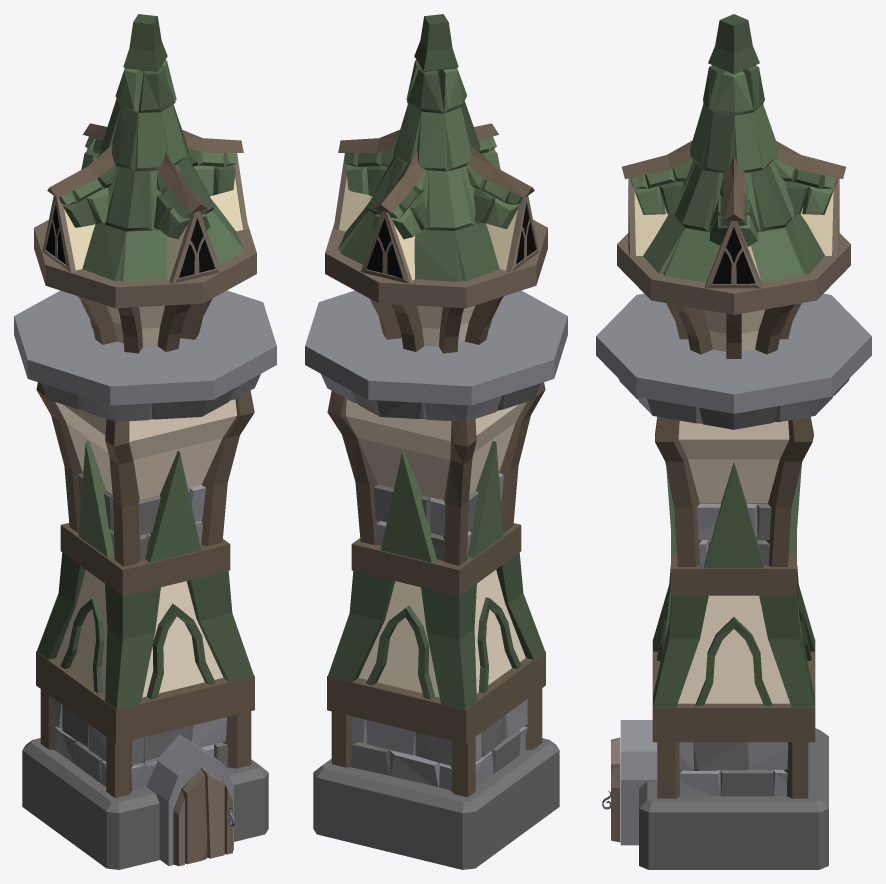
The model's file is Wizard_tower_LVL_3.fbx.
3 renders of one model, left to right at view 1: azimuth 30°, elevation 25°; view 2: azimuth 150°, elevation 25°; view 3: azimuth 270°, elevation 25°, orthographic.
Parts seen in each view (by area): view 1: Wizard_tower_LVL_3; view 2: Wizard_tower_LVL_3; view 3: Wizard_tower_LVL_3.
Boxes of the visible parts, left/top/right/bottom form: Wizard_tower_LVL_3: left=14, top=14, right=276, bottom=869; Wizard_tower_LVL_3: left=305, top=14, right=567, bottom=869; Wizard_tower_LVL_3: left=596, top=14, right=871, bottom=869.
Size of the model in its own units: 552 by 1788 by 552.
